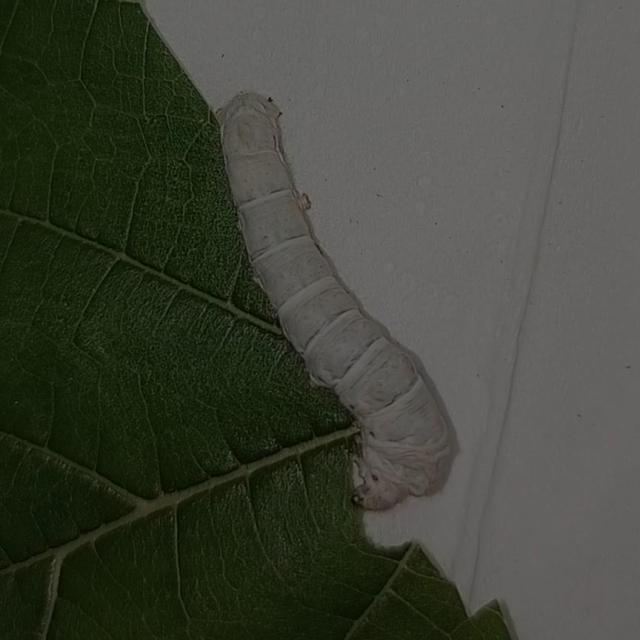Healthy: (204, 71, 480, 534)
